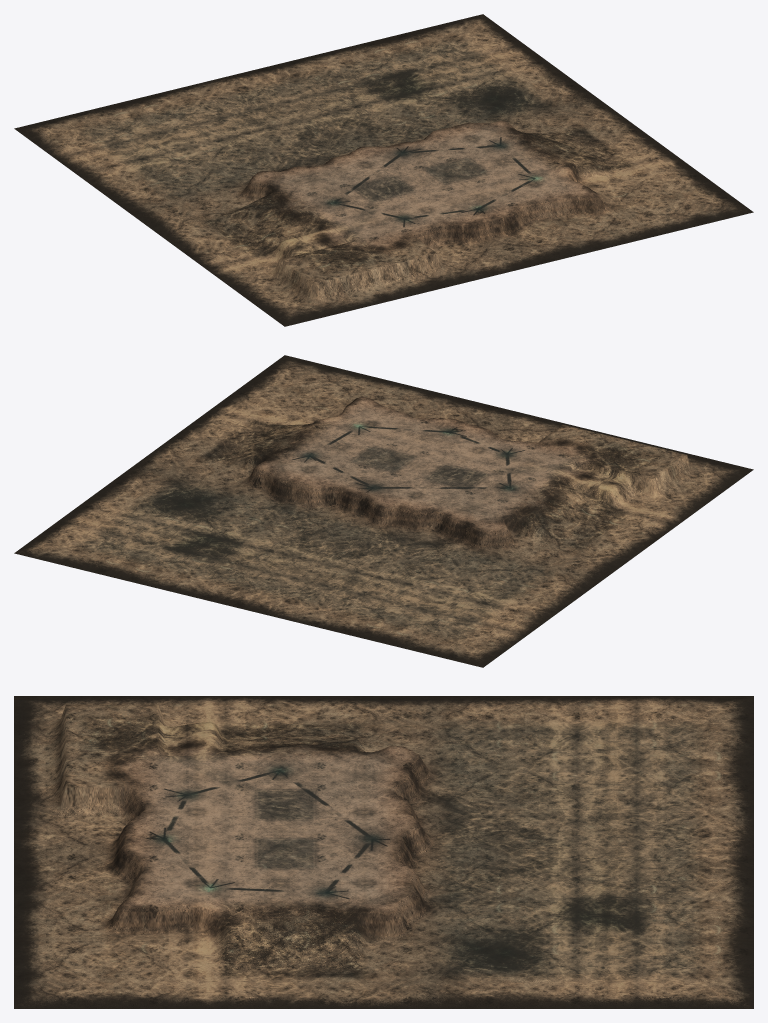
The model's file is glow-mesa-terrain.glb.
3 views of the same model, one above another, from view 1: azimuth 30°, elevation 25°; view 2: azimuth 150°, elevation 25°; view 3: azimuth 270°, elevation 25° (orthographic). The views are drawn at different scales.
Parts seen in each view (by area): view 1: GlowMesaTerrain; view 2: GlowMesaTerrain; view 3: GlowMesaTerrain.
Part boxes in pixels (left/top/right/bottom): GlowMesaTerrain: left=14, top=14, right=753, bottom=326; GlowMesaTerrain: left=14, top=355, right=753, bottom=667; GlowMesaTerrain: left=14, top=696, right=753, bottom=1008.
Size of the model in its own units: 128 by 4.44 by 128.
Materials: 1 (1 with a texture image).
